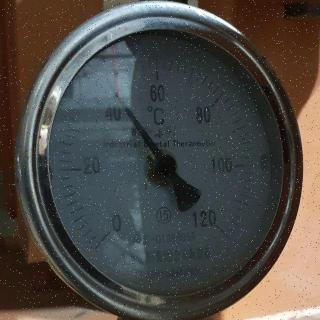gauge: (29, 4, 300, 320), (205, 212, 235, 244), (91, 219, 122, 249), (152, 153, 177, 179)
